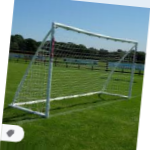goals: (12, 21, 138, 118)
